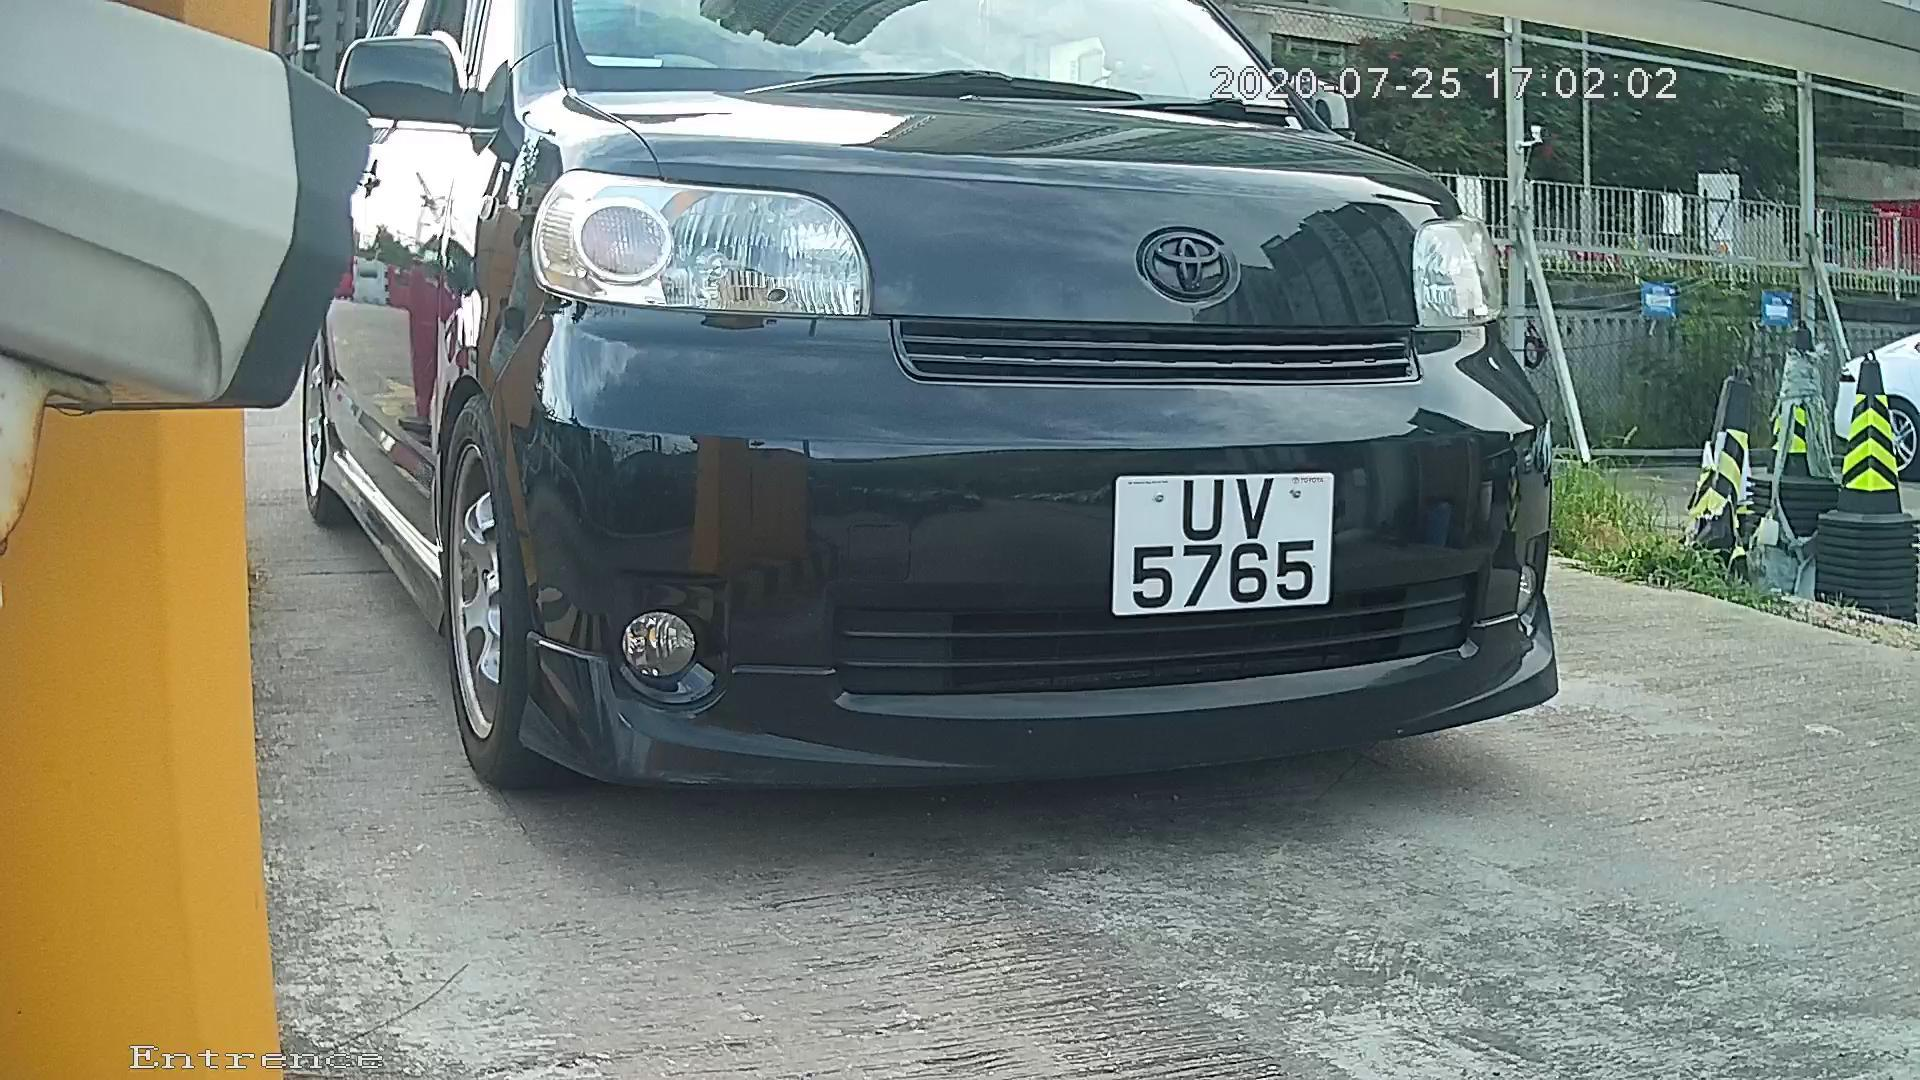privatecar: (232, 15, 1731, 835)
